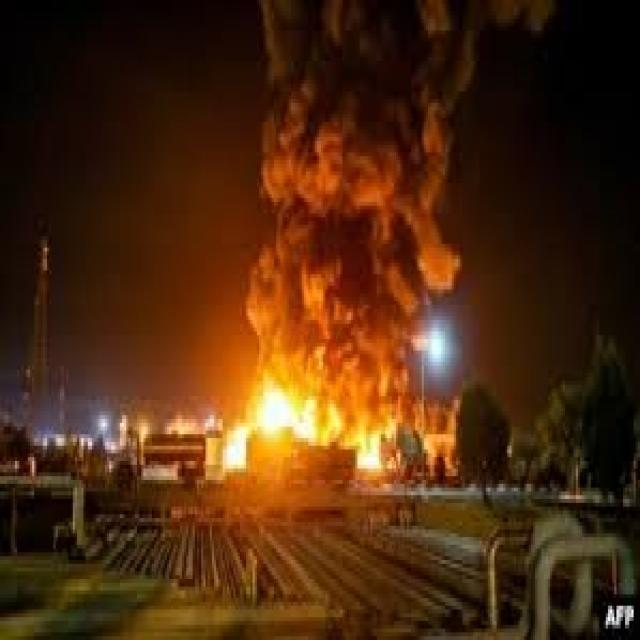Fire: (223, 367, 400, 483)
Smoke: (245, 0, 554, 421)
